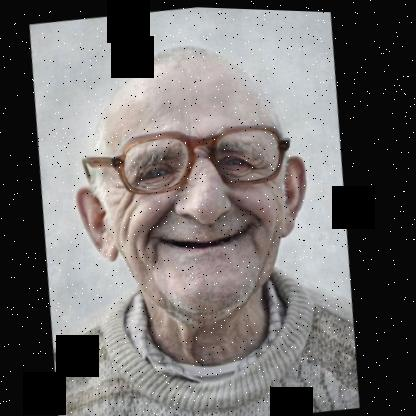Male: (53, 25, 332, 340)
